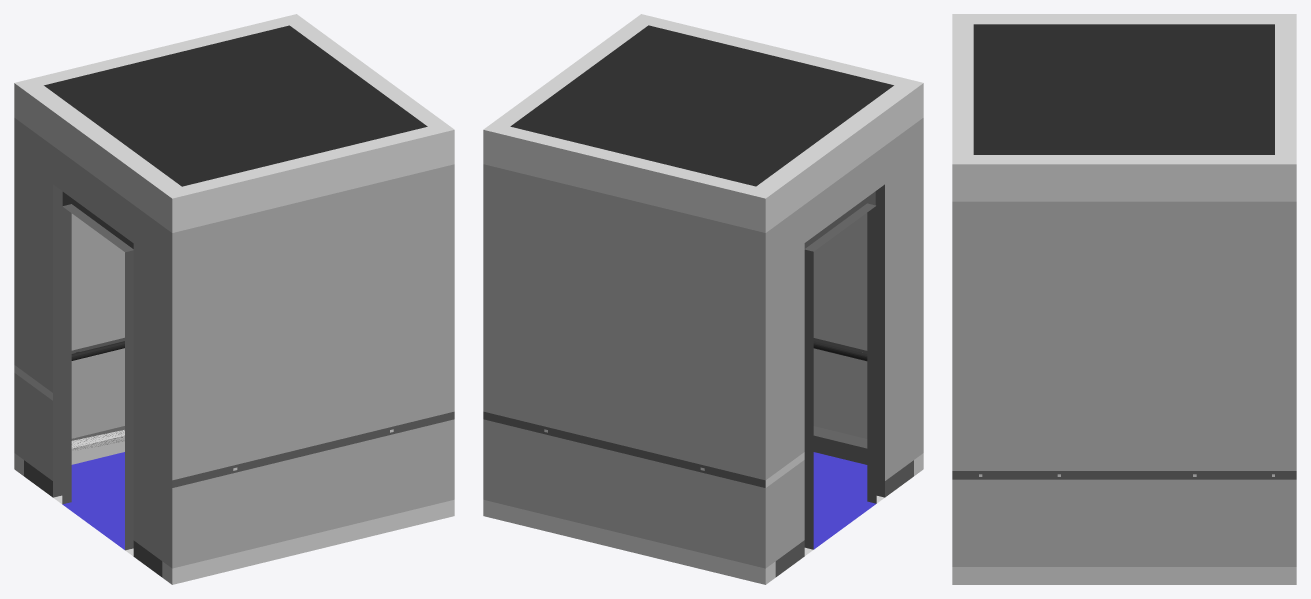
The model's file is ElevatorBody12.fbx.
The picture shows the model from 3 angles, left to right: view 1: azimuth 30°, elevation 25°; view 2: azimuth 150°, elevation 25°; view 3: azimuth 270°, elevation 25°; orthographic projection. The views are drawn at different scales.
Visible parts, largest first — view 1: Elevator; view 2: Elevator; view 3: Elevator.
Part boxes in pixels (x1,y1,x2,y2): Elevator: [14, 14, 454, 584]; Elevator: [483, 14, 923, 584]; Elevator: [952, 14, 1296, 584].
Bounding box in the file's own units: 249 × 326 × 242.
